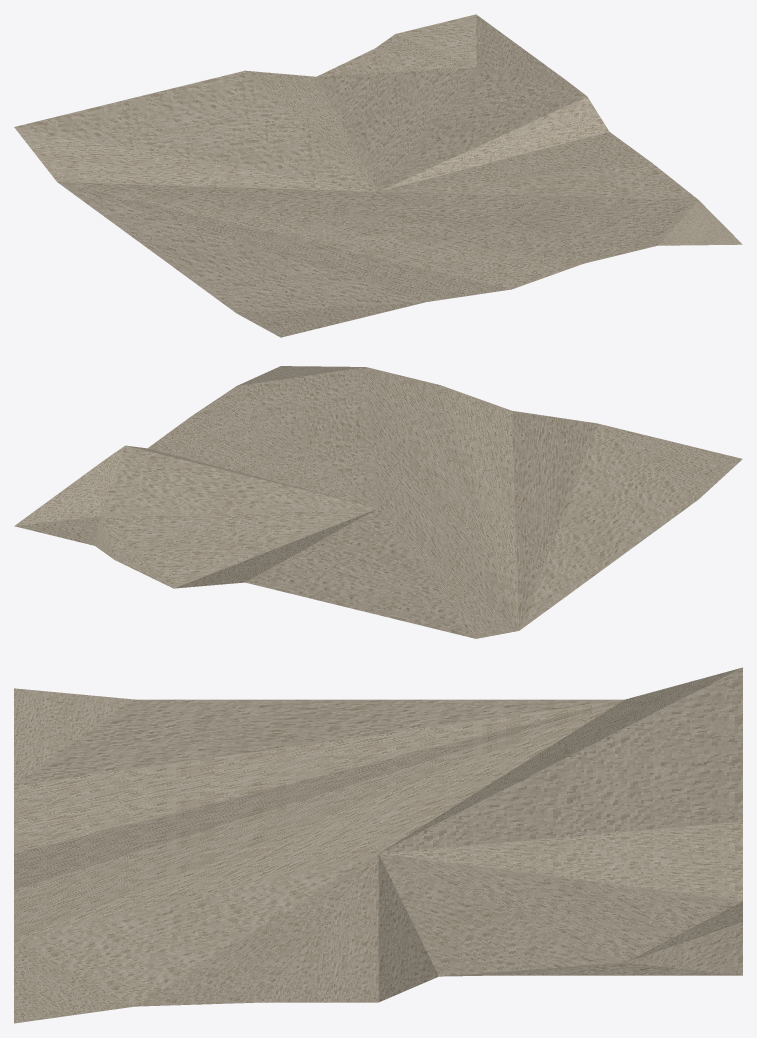
Rendered from lodseabed035.obj.
3 renders of one model, top to bottom at view 1: azimuth 30°, elevation 25°; view 2: azimuth 150°, elevation 25°; view 3: azimuth 270°, elevation 25°, orthographic. The views are drawn at different scales.
Parts seen in each view (by area): view 1: lodseabed035; view 2: lodseabed035; view 3: lodseabed035.
Part boxes in pixels (bbox=[...]): lodseabed035: bbox=[14, 14, 742, 337]; lodseabed035: bbox=[14, 366, 742, 638]; lodseabed035: bbox=[14, 667, 742, 1023].
Size of the model in its own units: 300 by 21.8 by 300.
Materials: 1 (1 with a texture image).
